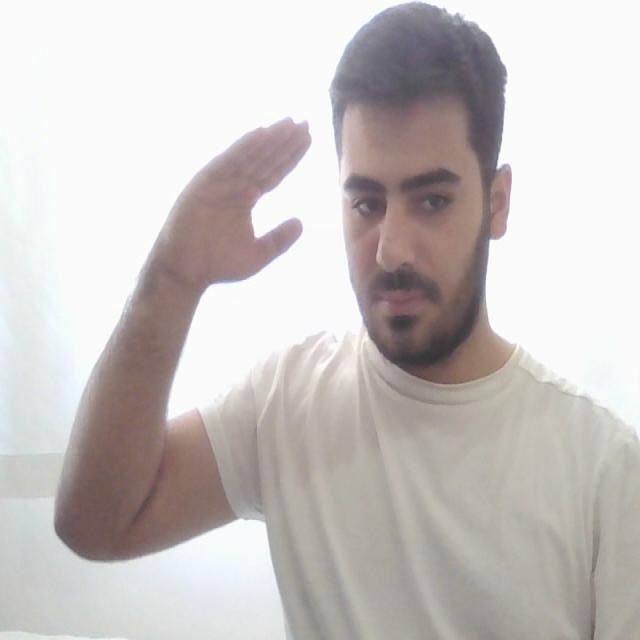Merhaba: (159, 92, 379, 344)
